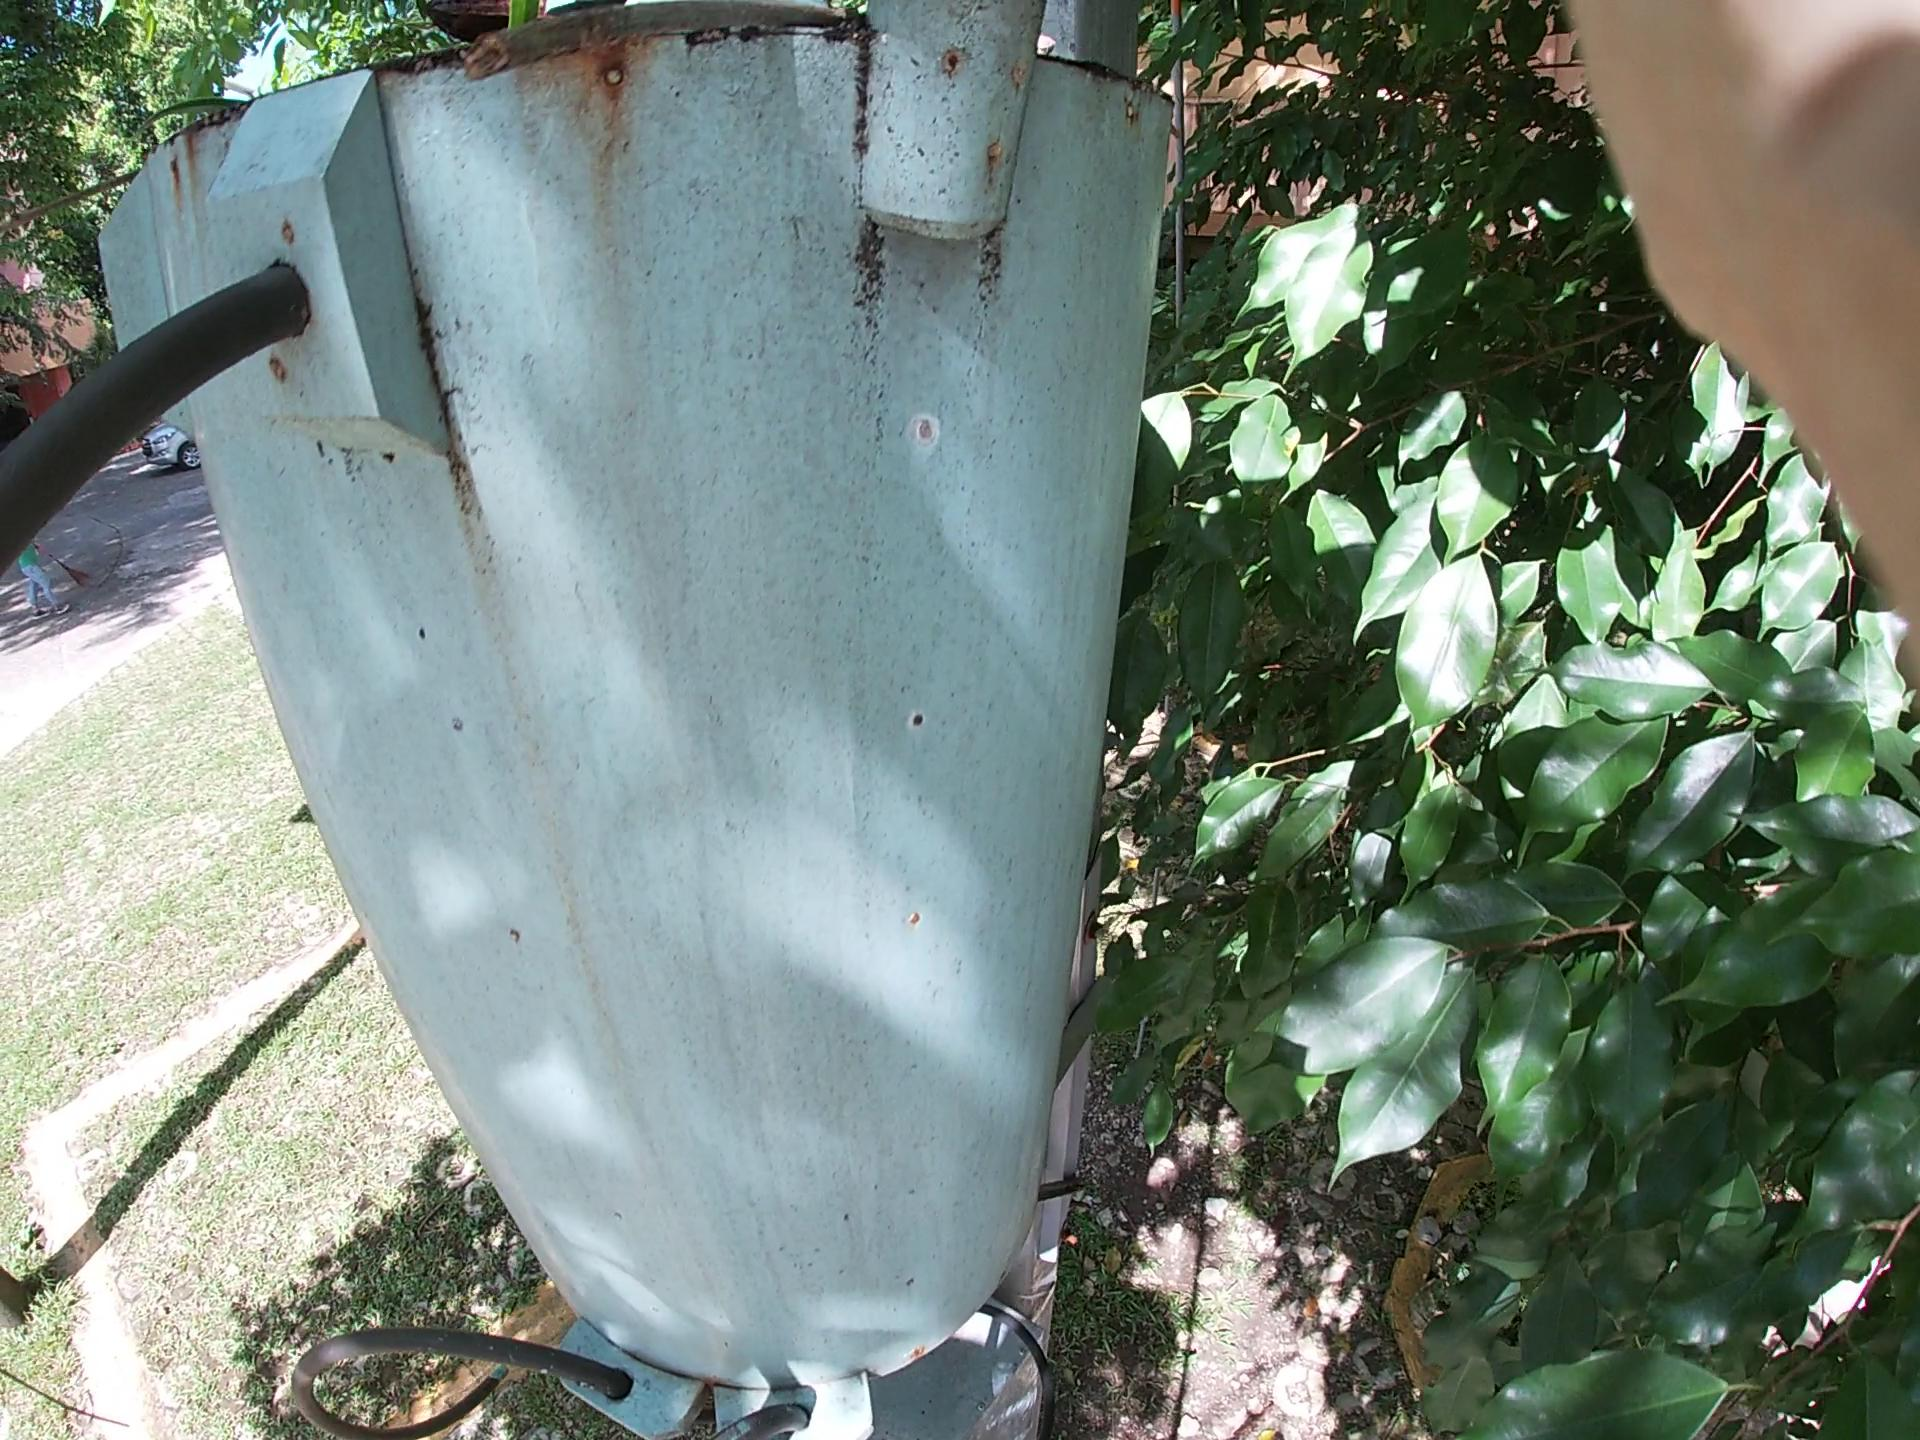tree branch: (441, 2, 782, 106), (17, 110, 181, 231)
